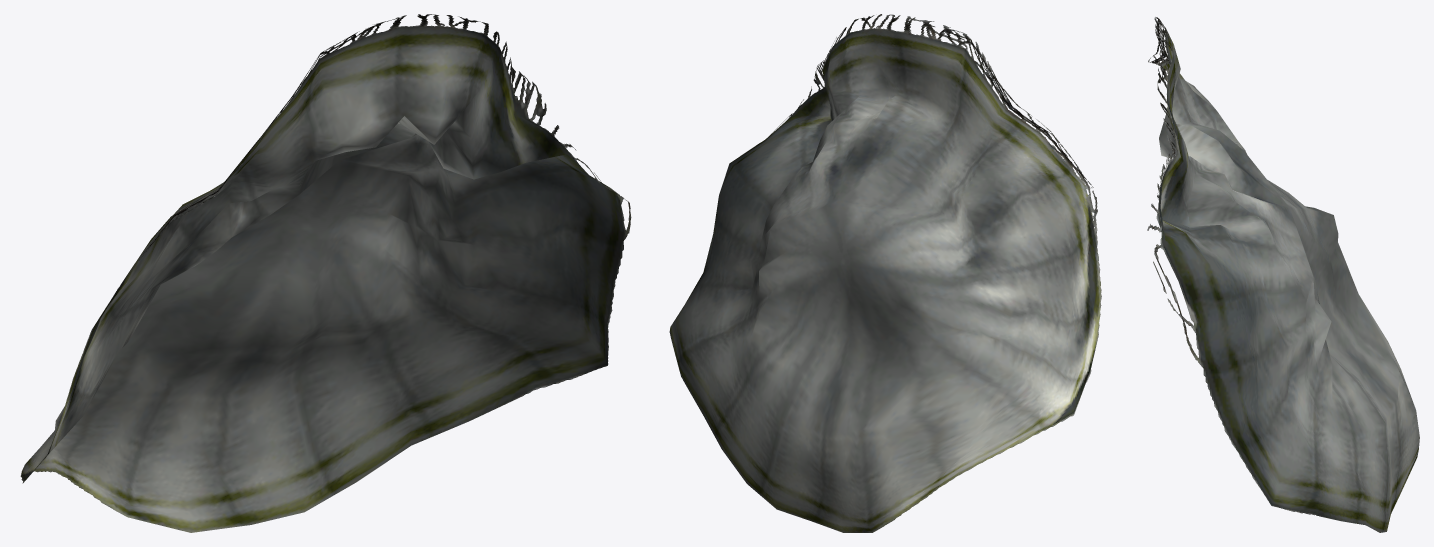
Rendered from parachute.fbx.
3 renders of one model, left to right at view 1: azimuth 30°, elevation 25°; view 2: azimuth 150°, elevation 25°; view 3: azimuth 270°, elevation 25°, orthographic. The views are drawn at different scales.
Visible parts, largest first — view 1: parachute; view 2: parachute; view 3: parachute.
Boxes of the visible parts, <box> form: parachute: <box>20,14,631,532</box>; parachute: <box>669,14,1101,532</box>; parachute: <box>1147,17,1419,532</box>.
Size of the model in its own units: 115 by 114 by 60.37.
